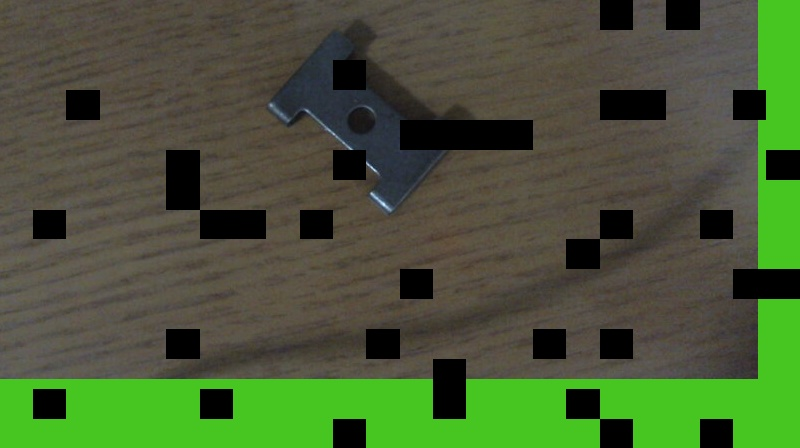O002: (264, 21, 466, 217)
